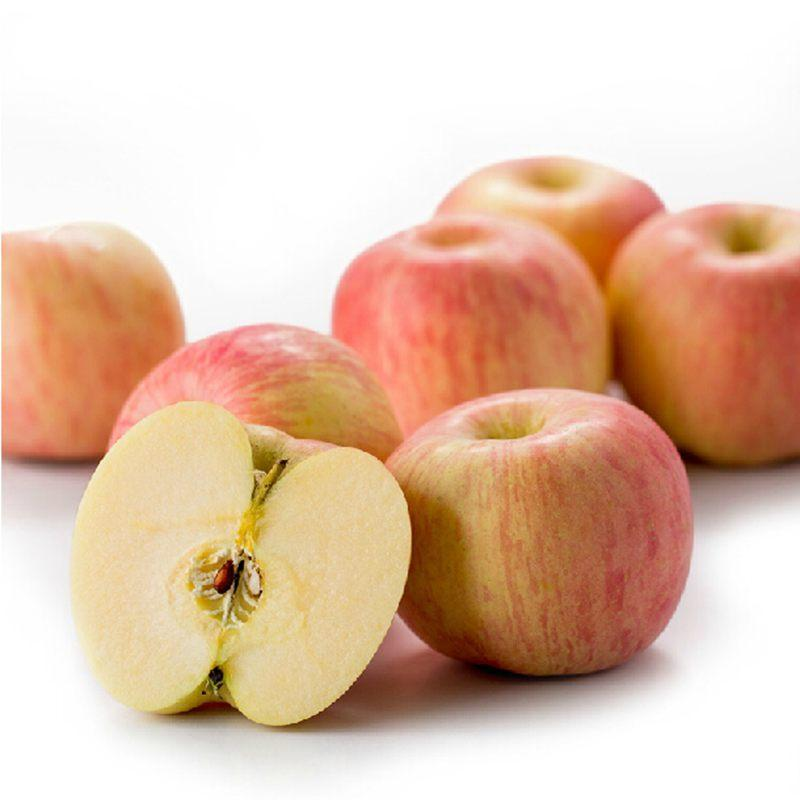apple: (379, 385, 692, 675), (327, 212, 611, 442), (600, 196, 800, 470), (2, 221, 190, 464), (105, 322, 407, 458), (428, 154, 662, 277)
